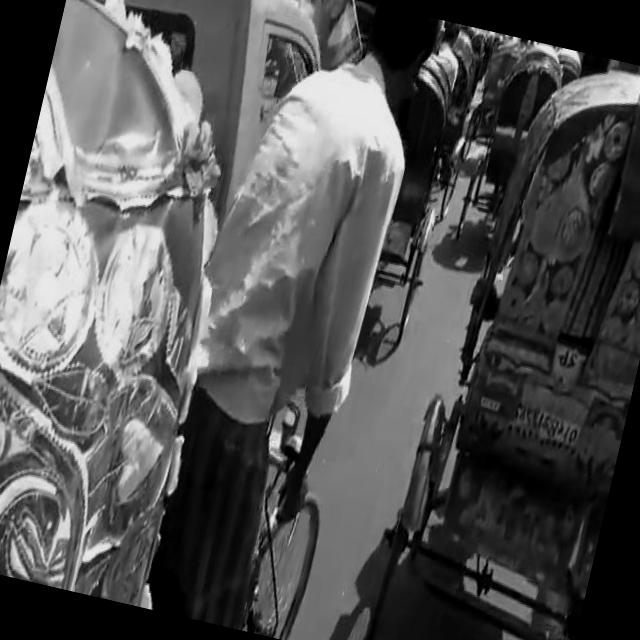motorcycle: (0, 0, 441, 640), (340, 34, 640, 640), (342, 33, 481, 370), (449, 32, 575, 260), (414, 23, 494, 224), (459, 31, 526, 176)
truck: (31, 0, 339, 257)
